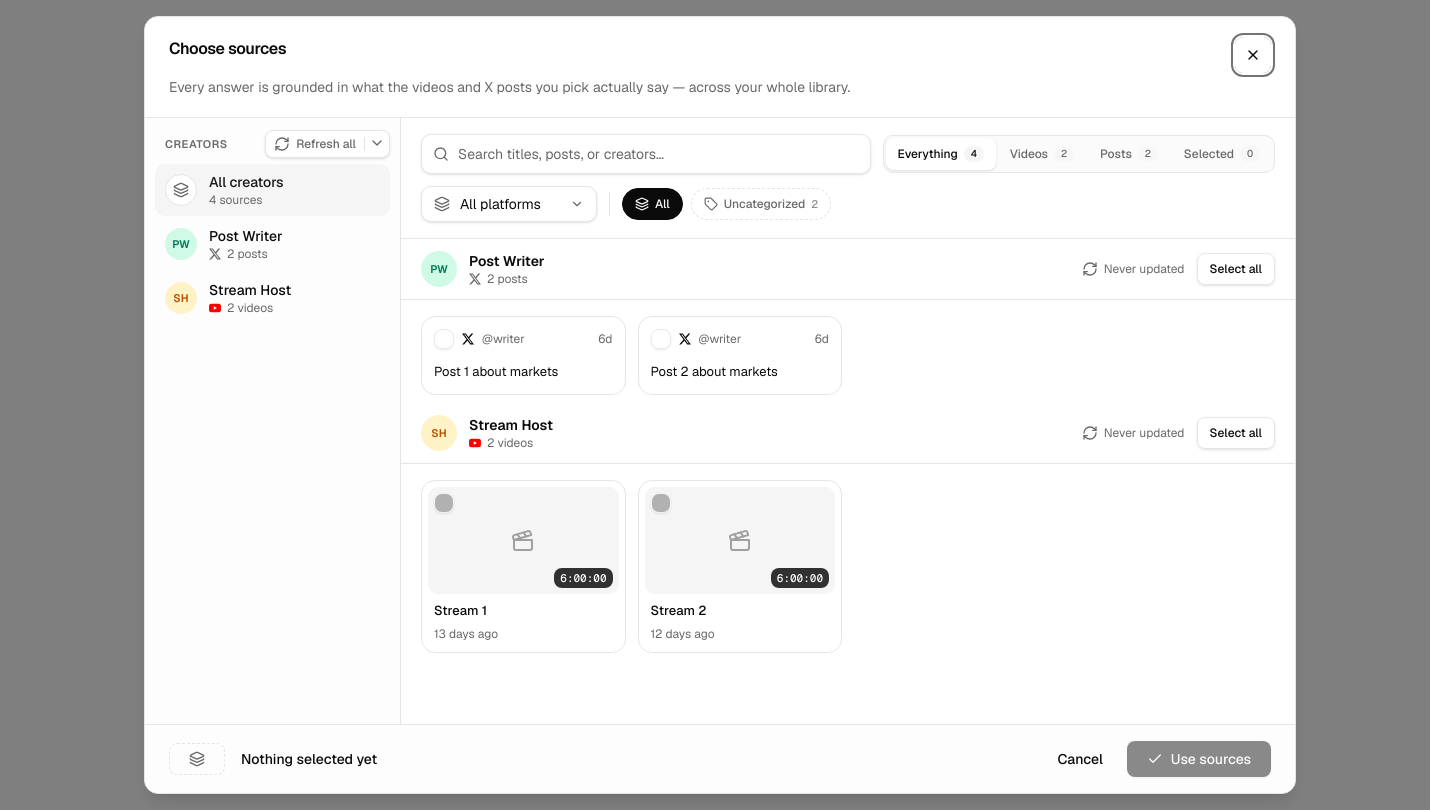
Test: ChatSourcePicker — selection size › names the long-video zone past what Deep reads in one go
Click the checkbox named "Select Stream 1" at (444, 503), box [434, 493, 454, 513]
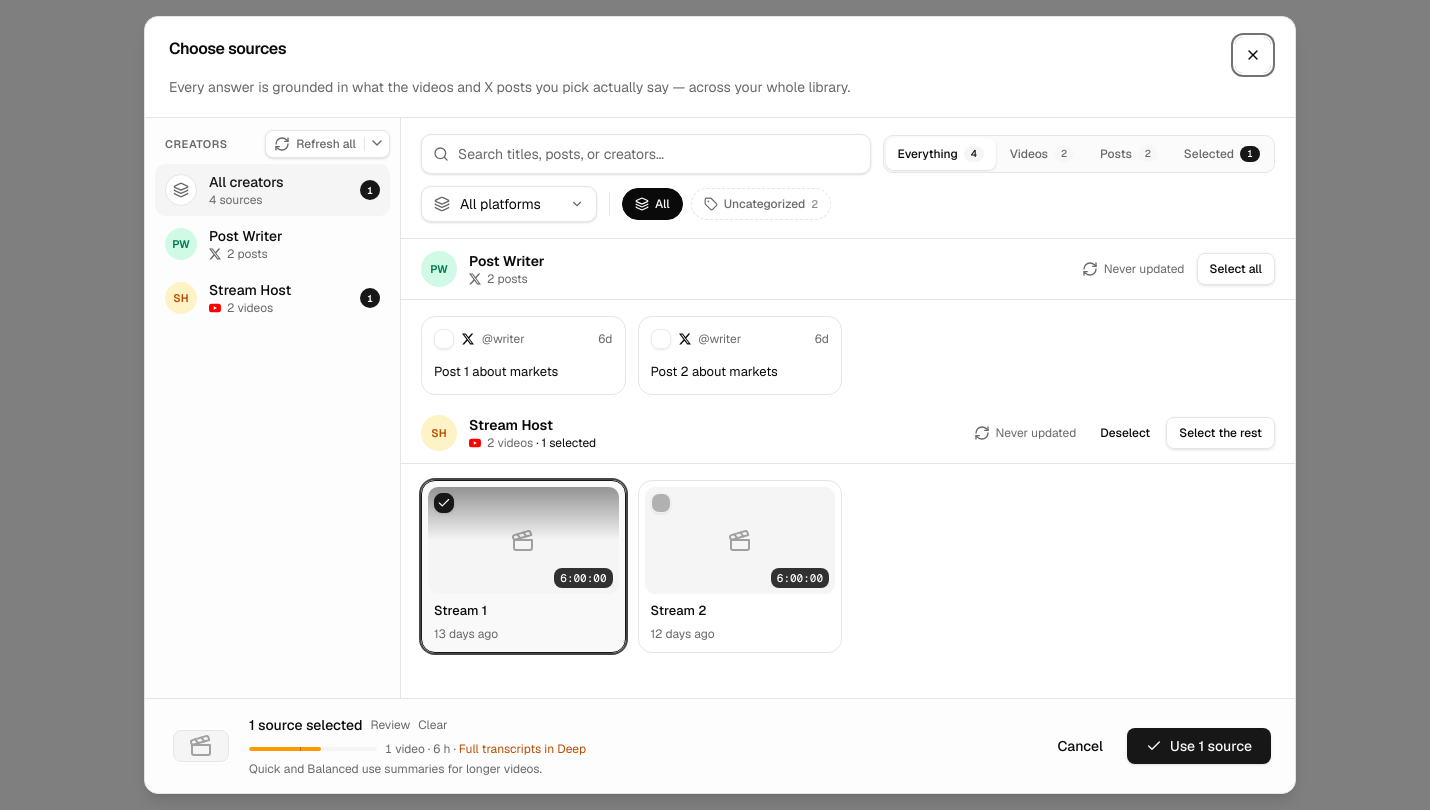
Click the checkbox named "Select Stream 2" at (660, 503), box [650, 493, 670, 513]
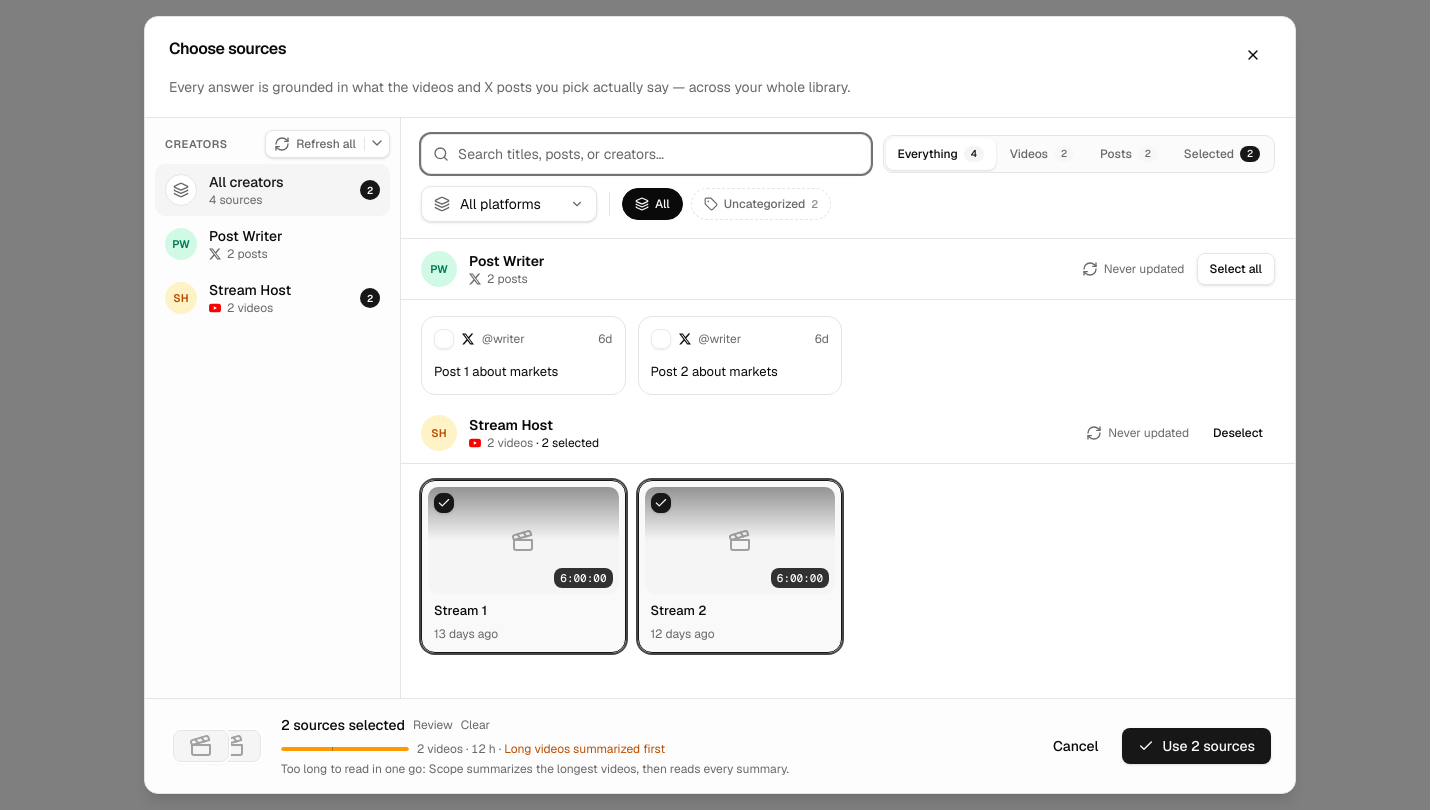
Check: the text "Long videos summarized first" is shown, box [504, 741, 665, 757]
